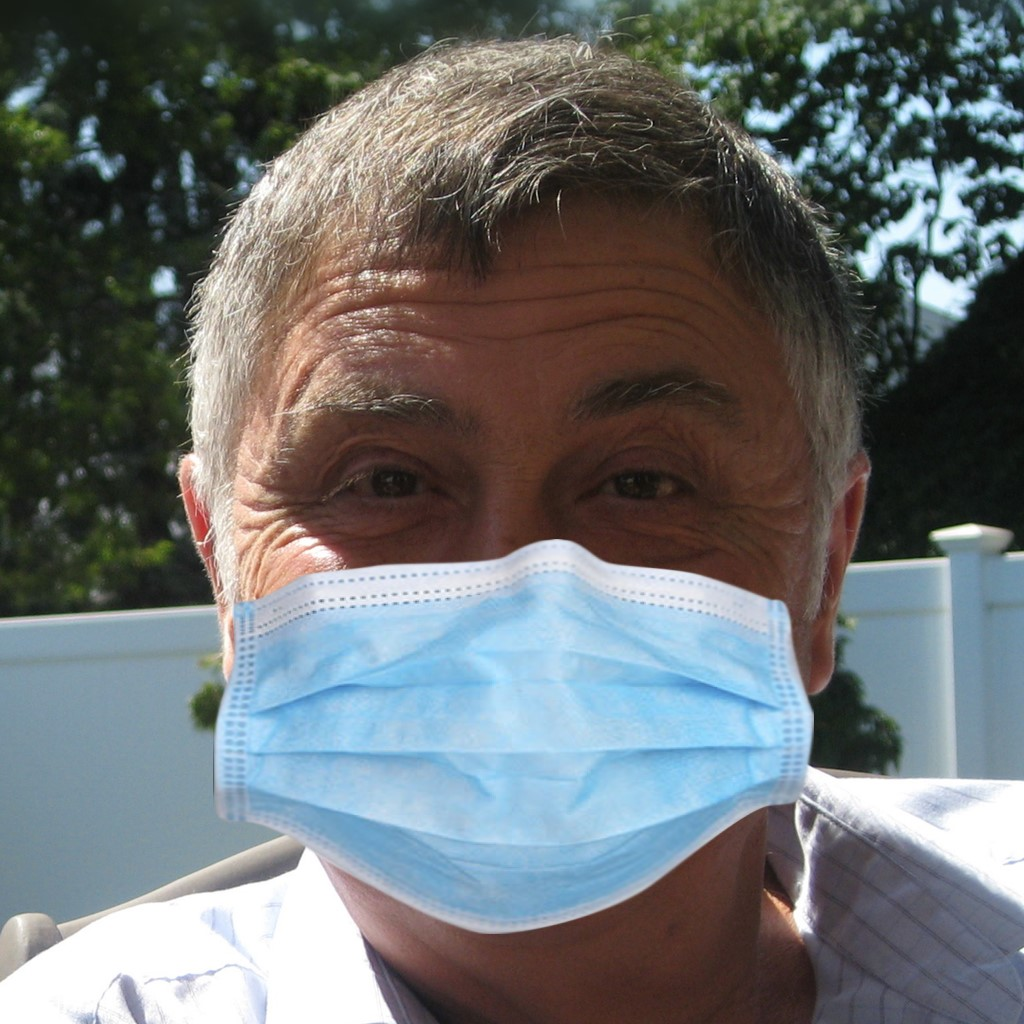con_mascara: (214, 126, 827, 924)
